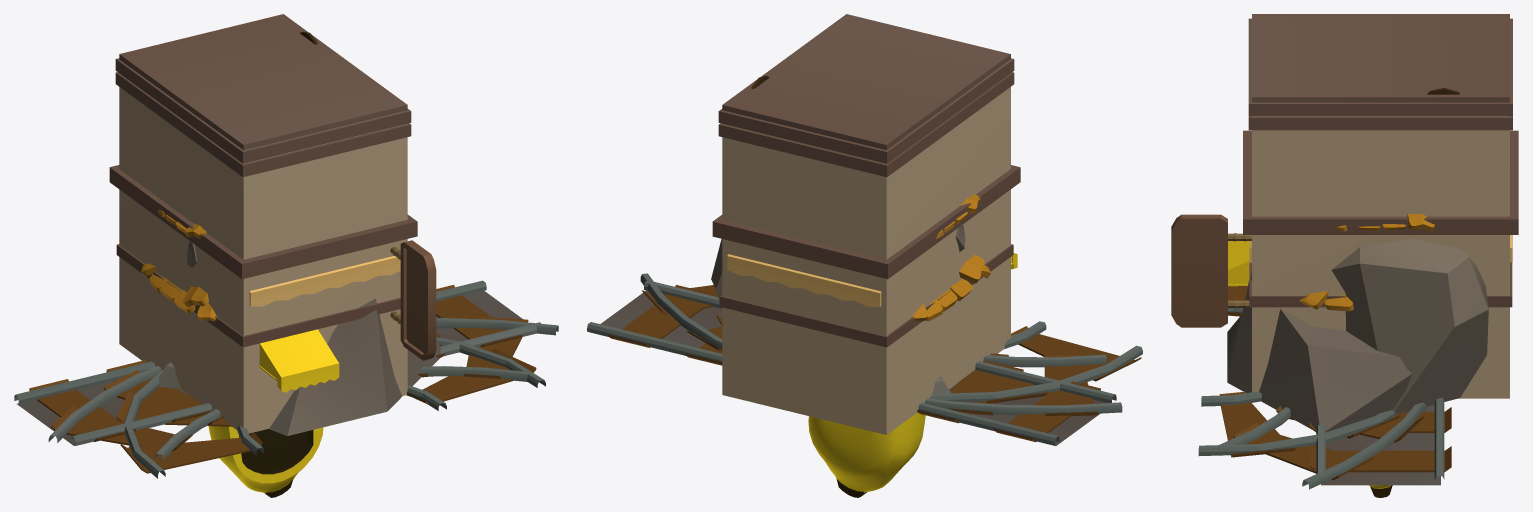
File: CenarioAtravessarARua.fbx
The picture shows the model from 3 angles, left to right: view 1: azimuth 30°, elevation 25°; view 2: azimuth 150°, elevation 25°; view 3: azimuth 270°, elevation 25°; orthographic projection. The views are drawn at different scales.
Visible parts, largest first — view 1: Predio, Pedra1, TrilhoReto, TrilhoUTurn, TrilhoCurvo, BananaFone, PlacaHotel, Marquise, MarquiseSorveteria, Pedrinhas, BeachBar; view 2: Predio, TrilhoReto, TrilhoCurvo, BananaFone, TrilhoUTurn, Pedrinhas, MarquiseSorveteria, BeachBar, Pedra2; view 3: Predio, Pedra2, Pedra1, PlacaHotel, TrilhoUTurn, TrilhoReto, TrilhoCurvo, Pedrinhas, BeachBar, Marquise.
Part boxes in pixels (x1,y1,x2,y2): Predio: (109, 14, 417, 433); Pedra1: (269, 298, 441, 435); TrilhoReto: (14, 280, 541, 445); TrilhoUTurn: (116, 334, 545, 478); TrilhoCurvo: (48, 316, 558, 460); BananaFone: (208, 426, 323, 497); PlacaHotel: (390, 240, 436, 360); Marquise: (259, 329, 339, 392); MarquiseSorveteria: (249, 256, 400, 306); Pedrinhas: (17, 291, 522, 445); BeachBar: (141, 209, 216, 321); Predio: (712, 14, 1020, 434); TrilhoReto: (587, 281, 1116, 445); TrilhoCurvo: (640, 273, 1122, 415); BananaFone: (808, 412, 925, 497); TrilhoUTurn: (716, 315, 1142, 403); Pedrinhas: (590, 290, 1106, 445); MarquiseSorveteria: (727, 254, 881, 306); BeachBar: (912, 194, 990, 321); Pedra2: (711, 224, 965, 309); Predio: (1243, 14, 1518, 398); Pedra2: (1331, 239, 1488, 414); Pedra1: (1227, 271, 1412, 432); PlacaHotel: (1171, 214, 1251, 327); TrilhoUTurn: (1198, 286, 1400, 457); TrilhoReto: (1310, 397, 1451, 479); TrilhoCurvo: (1219, 402, 1427, 489); Pedrinhas: (1321, 404, 1440, 485); BeachBar: (1299, 213, 1434, 311); Marquise: (1228, 241, 1249, 286).
Size of the model in its own units: 992 by 811 by 579.
